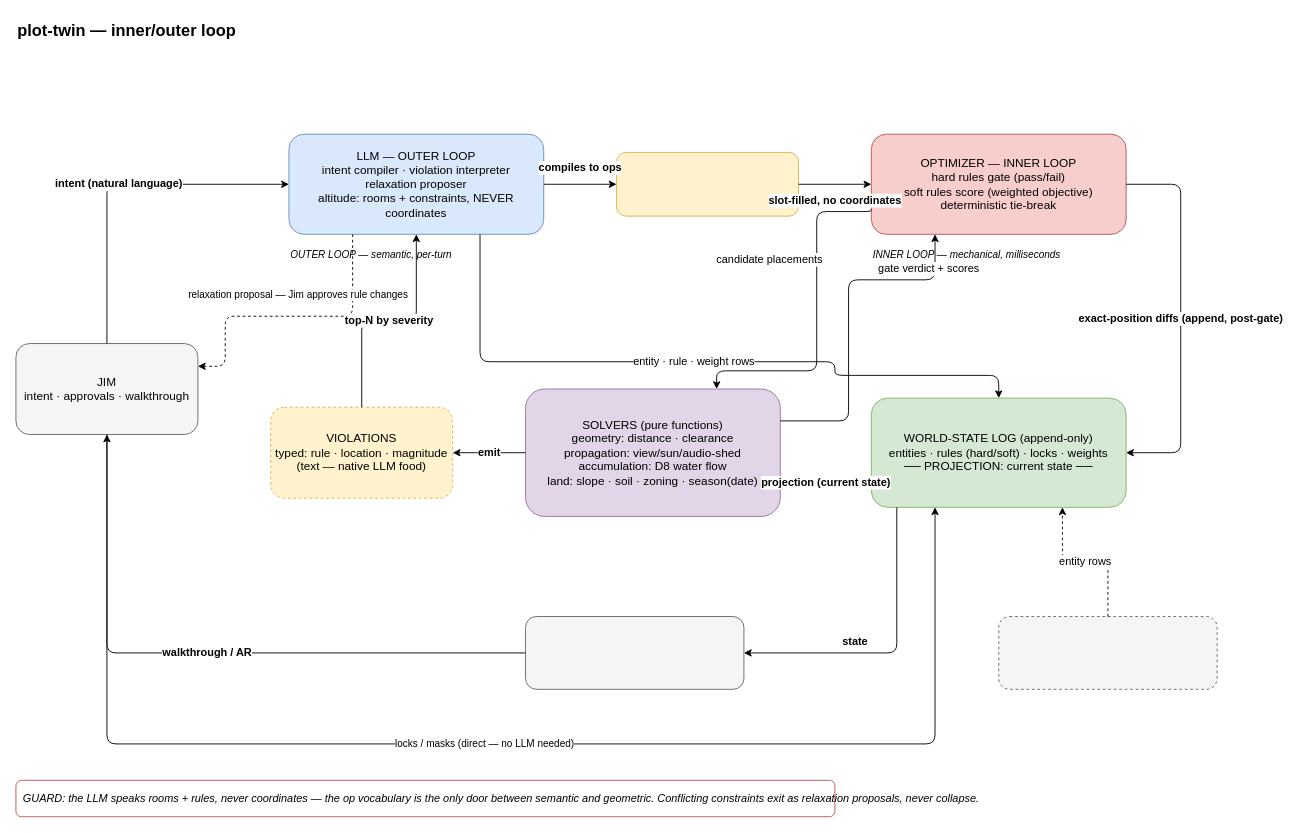
Image size: 1299x833. Some labels were removed from this diagram. The centre of each missing label's shape, as x and y in pixels:
"CAPTURE AGENT (future) photos · GPS · satellite → entity rows" belongs at (1107,652).
"OP VOCABULARY add_room · move · resize reroute · relax · lock" belongs at (707,184).
"RENDERER (scene3d) reads state · draws · owns no truth" belongs at (634,652).
